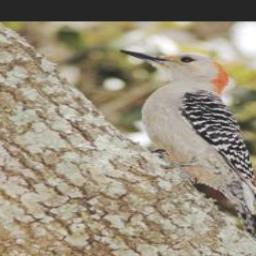Woodpecker: (113, 40, 256, 253)
